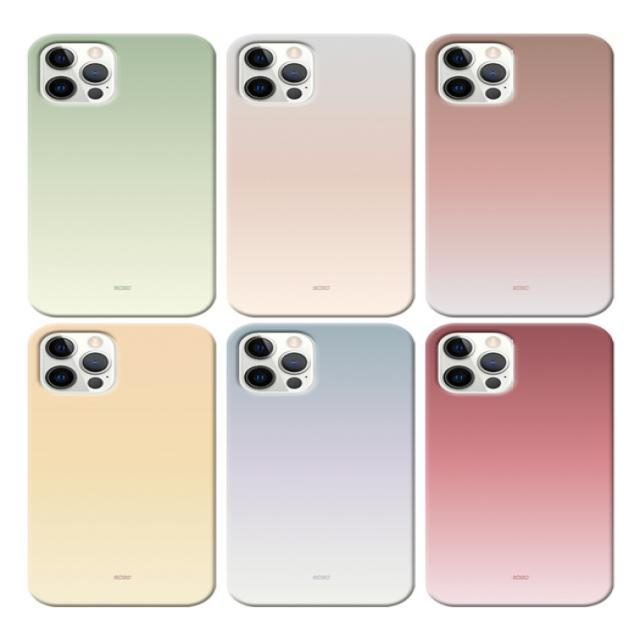phone: (226, 322, 415, 608), (225, 34, 416, 316), (424, 32, 612, 318), (28, 31, 216, 316), (28, 322, 216, 606), (428, 322, 614, 608)
